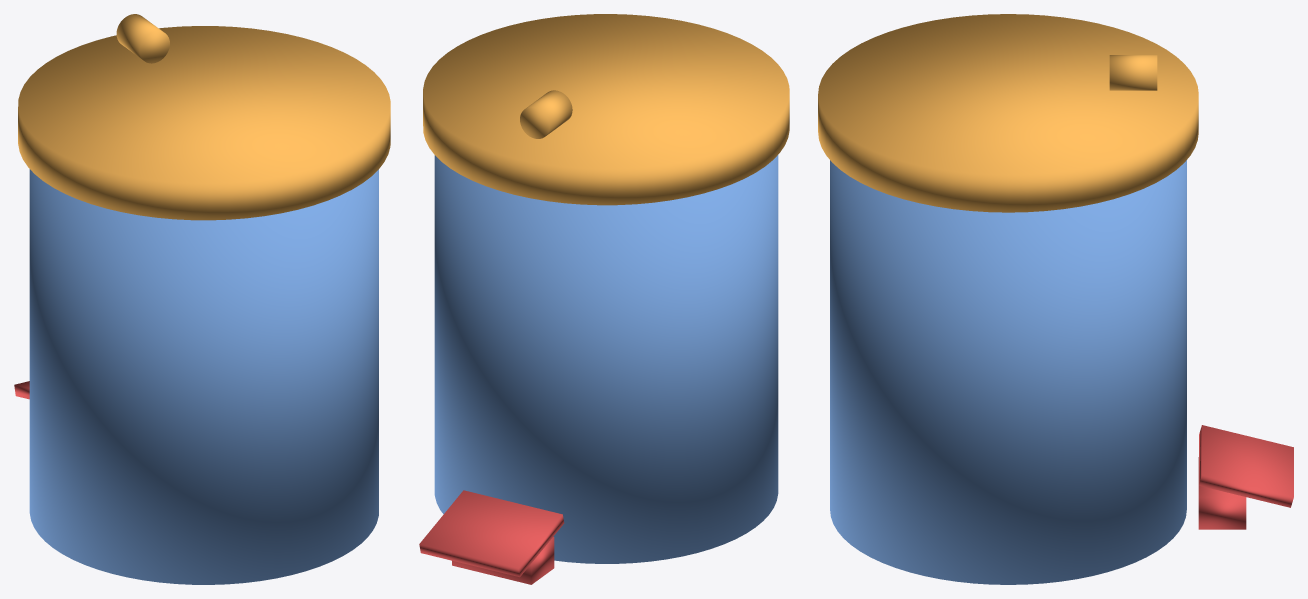
3 views of the same model, side by side, from view 1: azimuth 30°, elevation 25°; view 2: azimuth 150°, elevation 25°; view 3: azimuth 270°, elevation 25° (orthographic). The views are drawn at different scales.
Parts seen in each view (by area): view 1: Trash_Can_Body, Lid; view 2: Trash_Can_Body, Lid, Pedal_Assembly; view 3: Trash_Can_Body, Lid, Pedal_Assembly.
Boxes of the visible parts, <box> form: Trash_Can_Body: <box>29,169,378,584</box>; Lid: <box>18,14,390,220</box>; Trash_Can_Body: <box>434,155,778,563</box>; Lid: <box>423,14,789,205</box>; Pedal_Assembly: <box>419,490,564,584</box>; Trash_Can_Body: <box>830,160,1186,584</box>; Lid: <box>818,14,1198,212</box>; Pedal_Assembly: <box>1198,425,1293,529</box>.
Size of the model in its own units: 0.32 by 0.42 by 0.3999.
